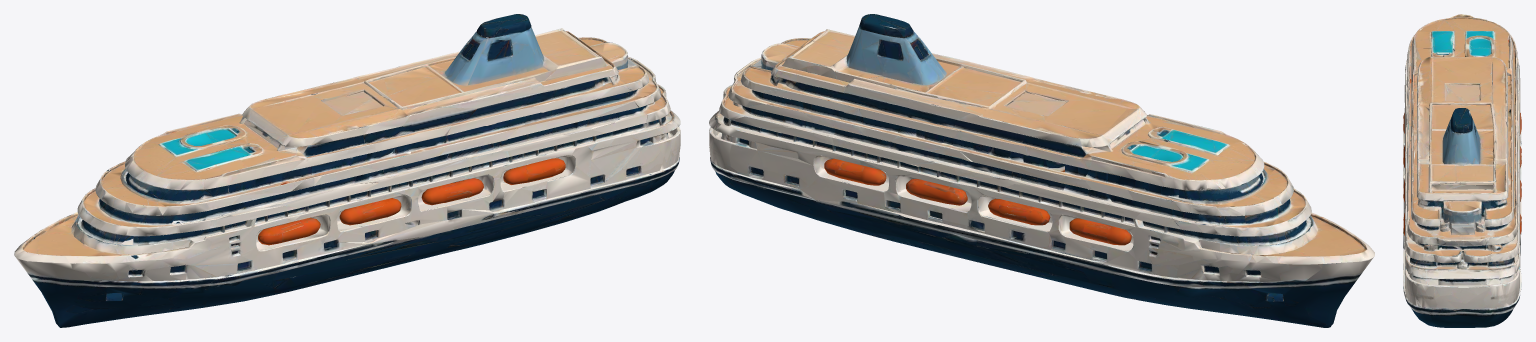
File: upm_mv3pqiq64ek.glb
3 views of the same model, side by side, from view 1: azimuth 30°, elevation 25°; view 2: azimuth 150°, elevation 25°; view 3: azimuth 270°, elevation 25° (orthographic). The views are drawn at different scales.
Visible parts, largest first — view 1: Mesh_0; view 2: Mesh_0; view 3: Mesh_0.
Part boxes in pixels (x1,y1,x2,y2): Mesh_0: (14,14,680,327); Mesh_0: (709,14,1374,327); Mesh_0: (1403,14,1521,327).
Bounding box in the file's own units: 1.9 × 0.5607 × 0.3626.
Materials: 1 (1 with a texture image).
